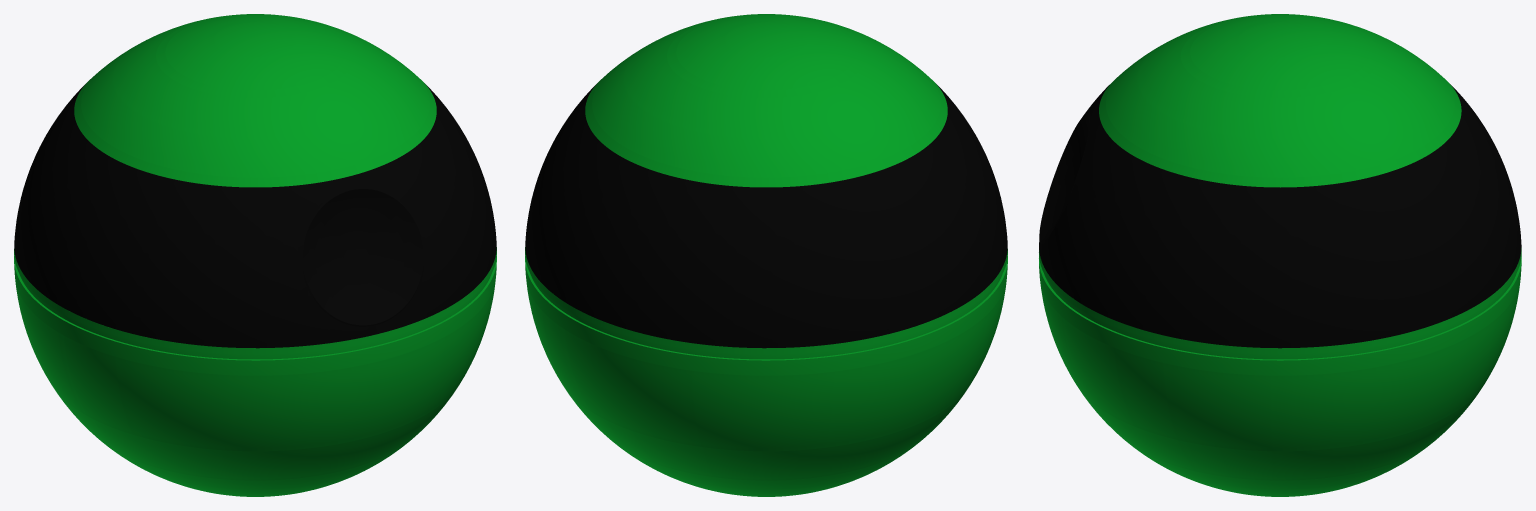
The model's file is death-star-untextured.glb.
3 renders of one model, left to right at view 1: azimuth 30°, elevation 25°; view 2: azimuth 150°, elevation 25°; view 3: azimuth 270°, elevation 25°, orthographic.
Parts seen in each view (by area): view 1: DeathStar001, DeathStar_misa001; view 2: DeathStar001; view 3: DeathStar001, DeathStar_misa001.
Boxes of the visible parts, left/top/right/bottom form: DeathStar001: left=14, top=14, right=496, bottom=496; DeathStar_misa001: left=301, top=187, right=424, bottom=326; DeathStar001: left=525, top=14, right=1007, bottom=496; DeathStar001: left=1039, top=14, right=1521, bottom=496; DeathStar_misa001: left=1039, top=112, right=1090, bottom=243.
Bounding box in the file's own units: 99.97 × 100 × 100.
